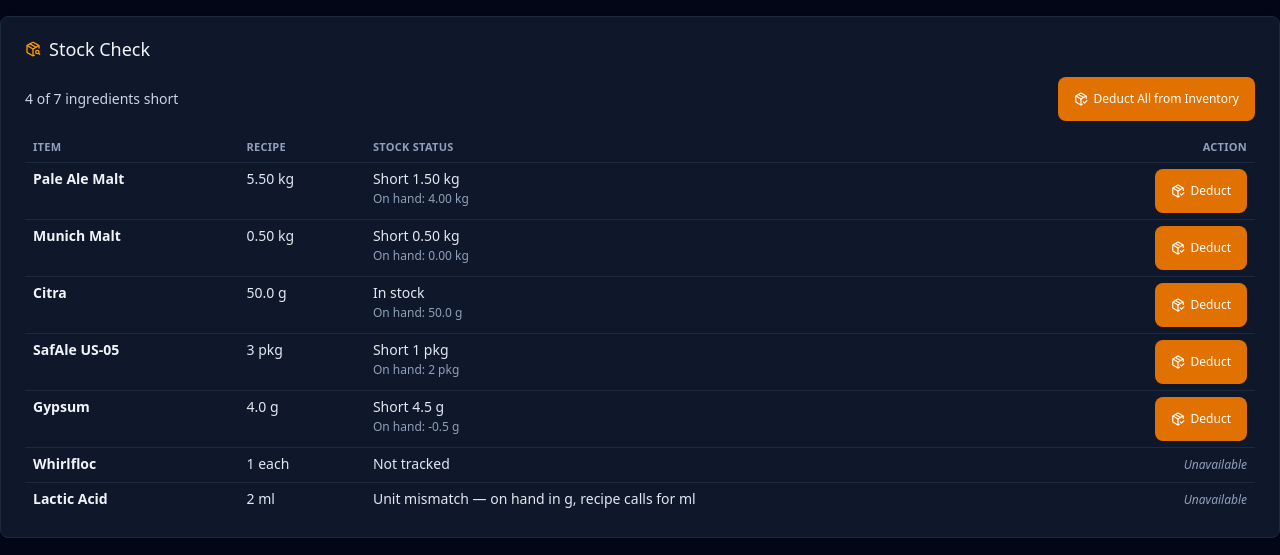
Test: AC-45 (regression): lockstep — one response, one render, no local math › the row and header render exactly the response payload
The image size is (1280, 555).
Expected: the text "4 of 7 ingredients short" is shown, x1=25 y1=89 x2=178 y2=109
Click the button with test id "stock-check-deduct-pale ale malt".
click(1201, 190)  # box x1=1155 y1=168 x2=1247 y2=212
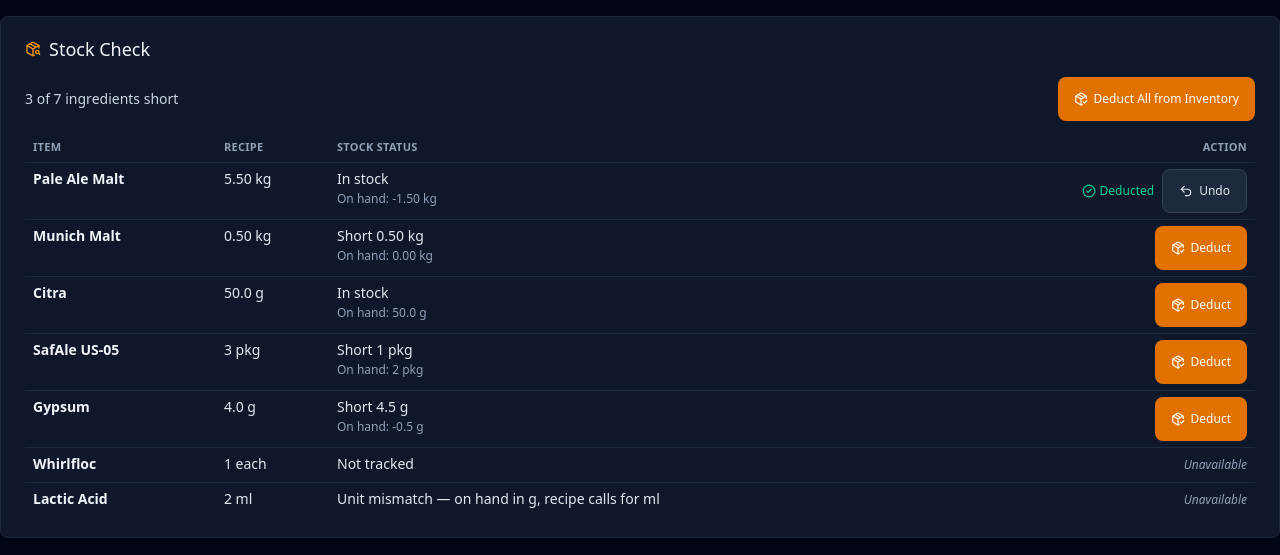
Now the text with test id "stock-check-header" reads "3 of 7 ingredients short", box x1=25 y1=89 x2=178 y2=109
Now the row with test id "stock-check-line-pale ale malt" shows "On hand: -1.50 kg", box x1=25 y1=162 x2=1255 y2=219
Now the row with test id "stock-check-line-pale ale malt" shows "In stock", box x1=337 y1=168 x2=388 y2=188
